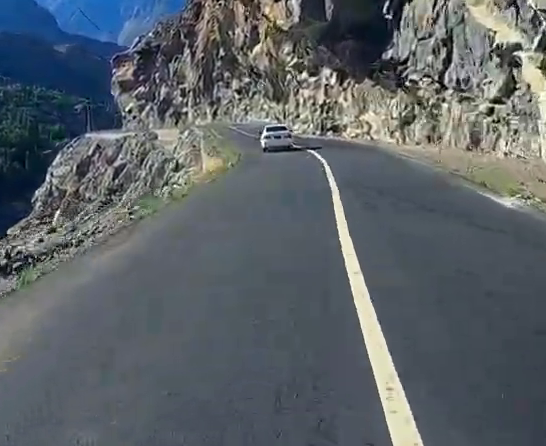left: (259, 168, 506, 432)
